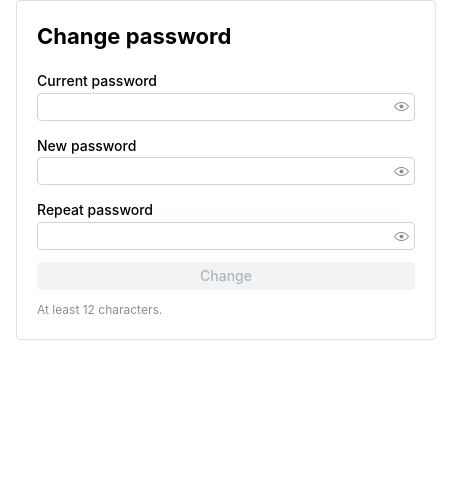
Scenario: ChangePasswordPage: 423 і 429 показують причину з каталогу (S9) › 429 — забагато спроб зміни пароля: банер із подробицею з каталогу
Type "OldPassword1" into the password field labelled "Current password" at (226, 107), box [38,94,414,120]
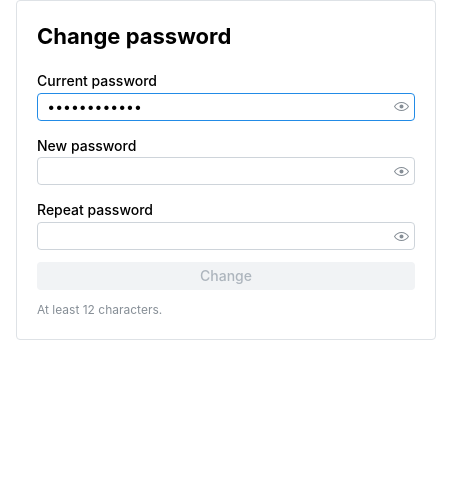
Type "NewPassword123" into the password field labelled "New password" at (226, 171), box [38,158,414,184]
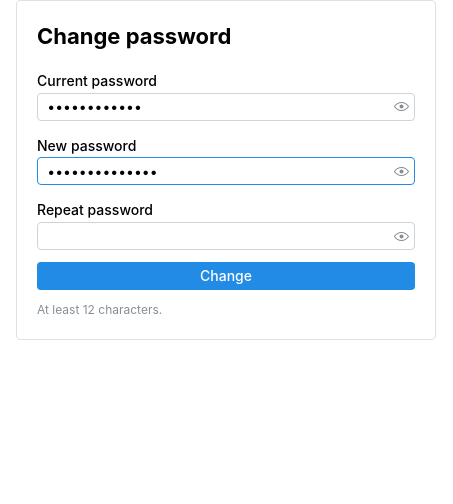
Type "NewPassword123" into the password field labelled "Repeat password" at (226, 236), box [38,223,414,249]
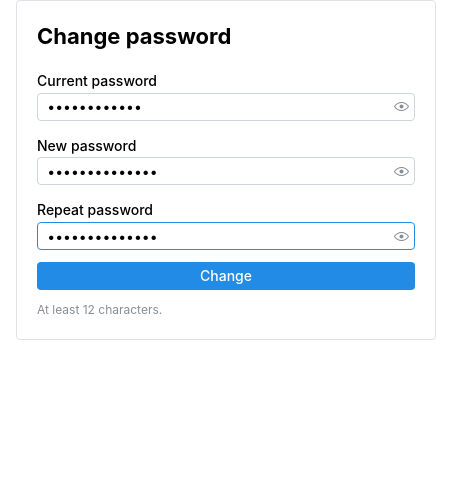
Click the button "Change" at (226, 276), box [37,262,415,290]
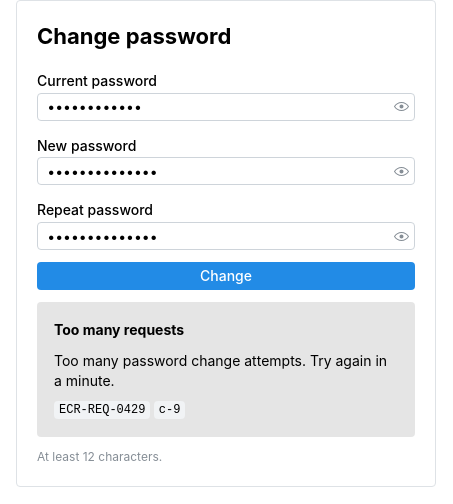
Expected: the message shows "Too many requests", [54,321,184,338]
Expected: the message shows "Too many password change attempts. Try again in a minute.", [54,352,387,389]
